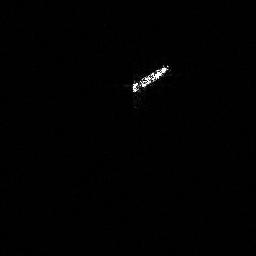ship: (129, 61, 176, 98)
